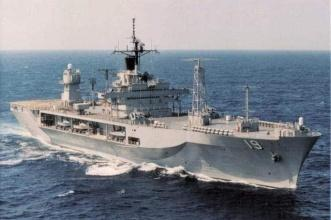warship: (11, 43, 318, 190)
